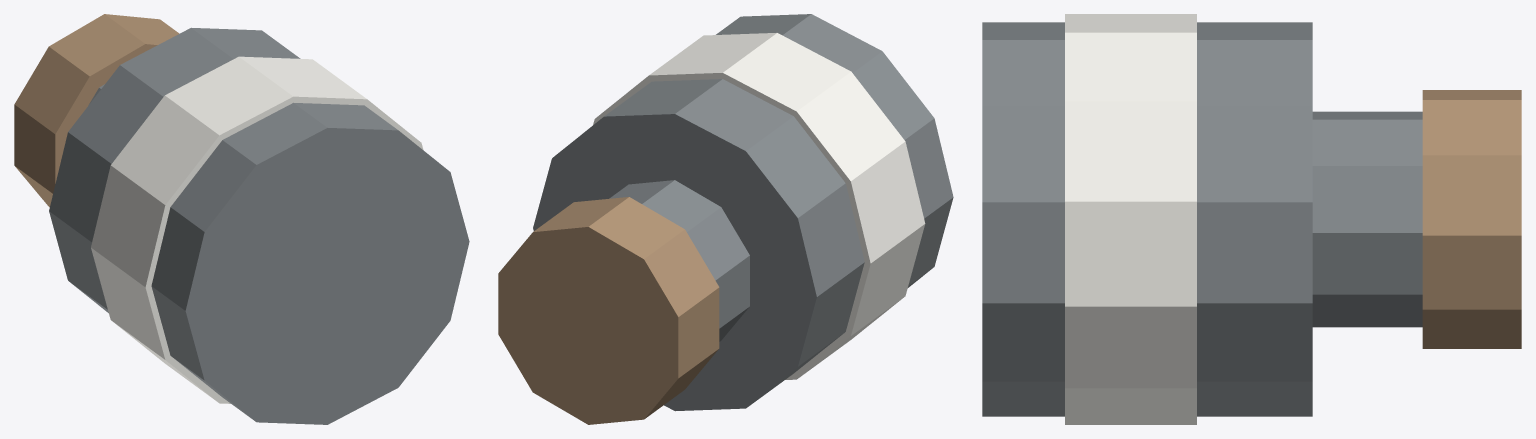
File: gray_dye_held.gltf
3 views of the same model, side by side, from view 1: azimuth 30°, elevation 25°; view 2: azimuth 150°, elevation 25°; view 3: azimuth 270°, elevation 25° (orthographic). The views are drawn at different scales.
Visible parts, largest first — view 1: colors_gray_dye_held; view 2: colors_gray_dye_held; view 3: colors_gray_dye_held.
Boxes of the visible parts, x1,y1,x2,y2 form: colors_gray_dye_held: (14, 14, 469, 424); colors_gray_dye_held: (498, 14, 953, 424); colors_gray_dye_held: (982, 14, 1521, 424).
Size of the model in its own units: 0.075 by 0.075 by 0.098.
